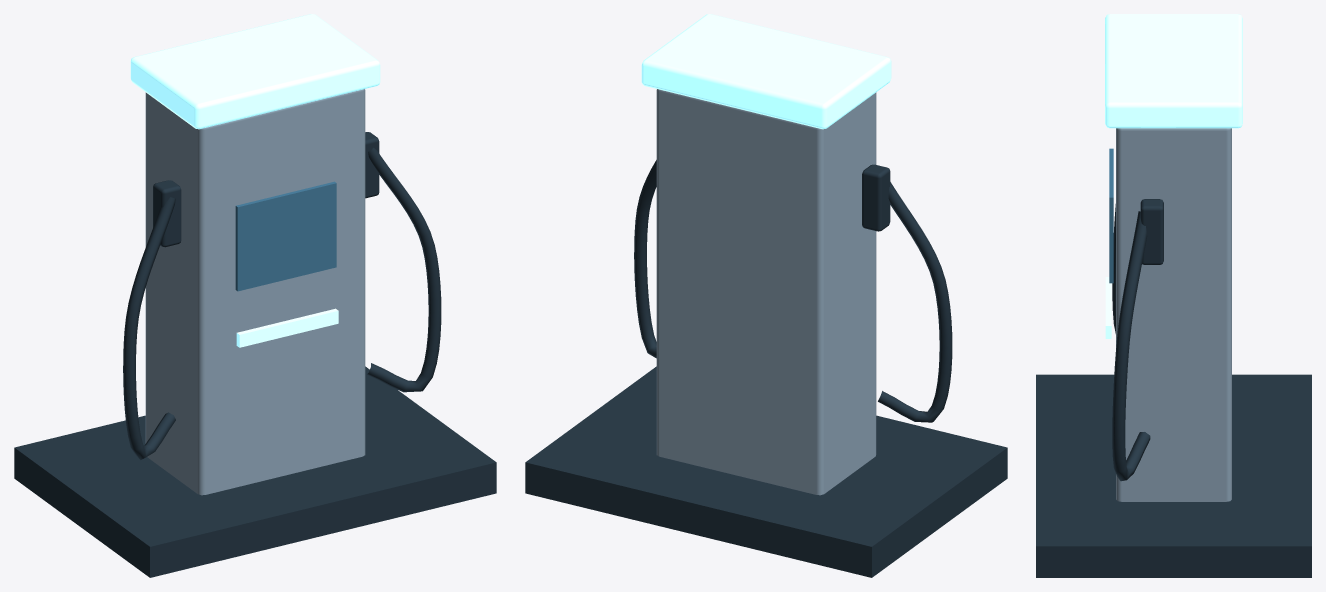
File: charger.glb
3 renders of one model, left to right at view 1: azimuth 30°, elevation 25°; view 2: azimuth 150°, elevation 25°; view 3: azimuth 270°, elevation 25°, orthographic.
Visible parts, largest first — view 1: preset-charger (×4); view 2: preset-charger (×3); view 3: preset-charger (×4).
Part boxes in pixels (box(x1,y1,x2,y2)): preset-charger (×4): box(14, 14, 496, 577); preset-charger (×3): box(525, 14, 1007, 577); preset-charger (×4): box(1036, 14, 1311, 577).
Size of the model in its own units: 2.8 by 3.3 by 1.9.
